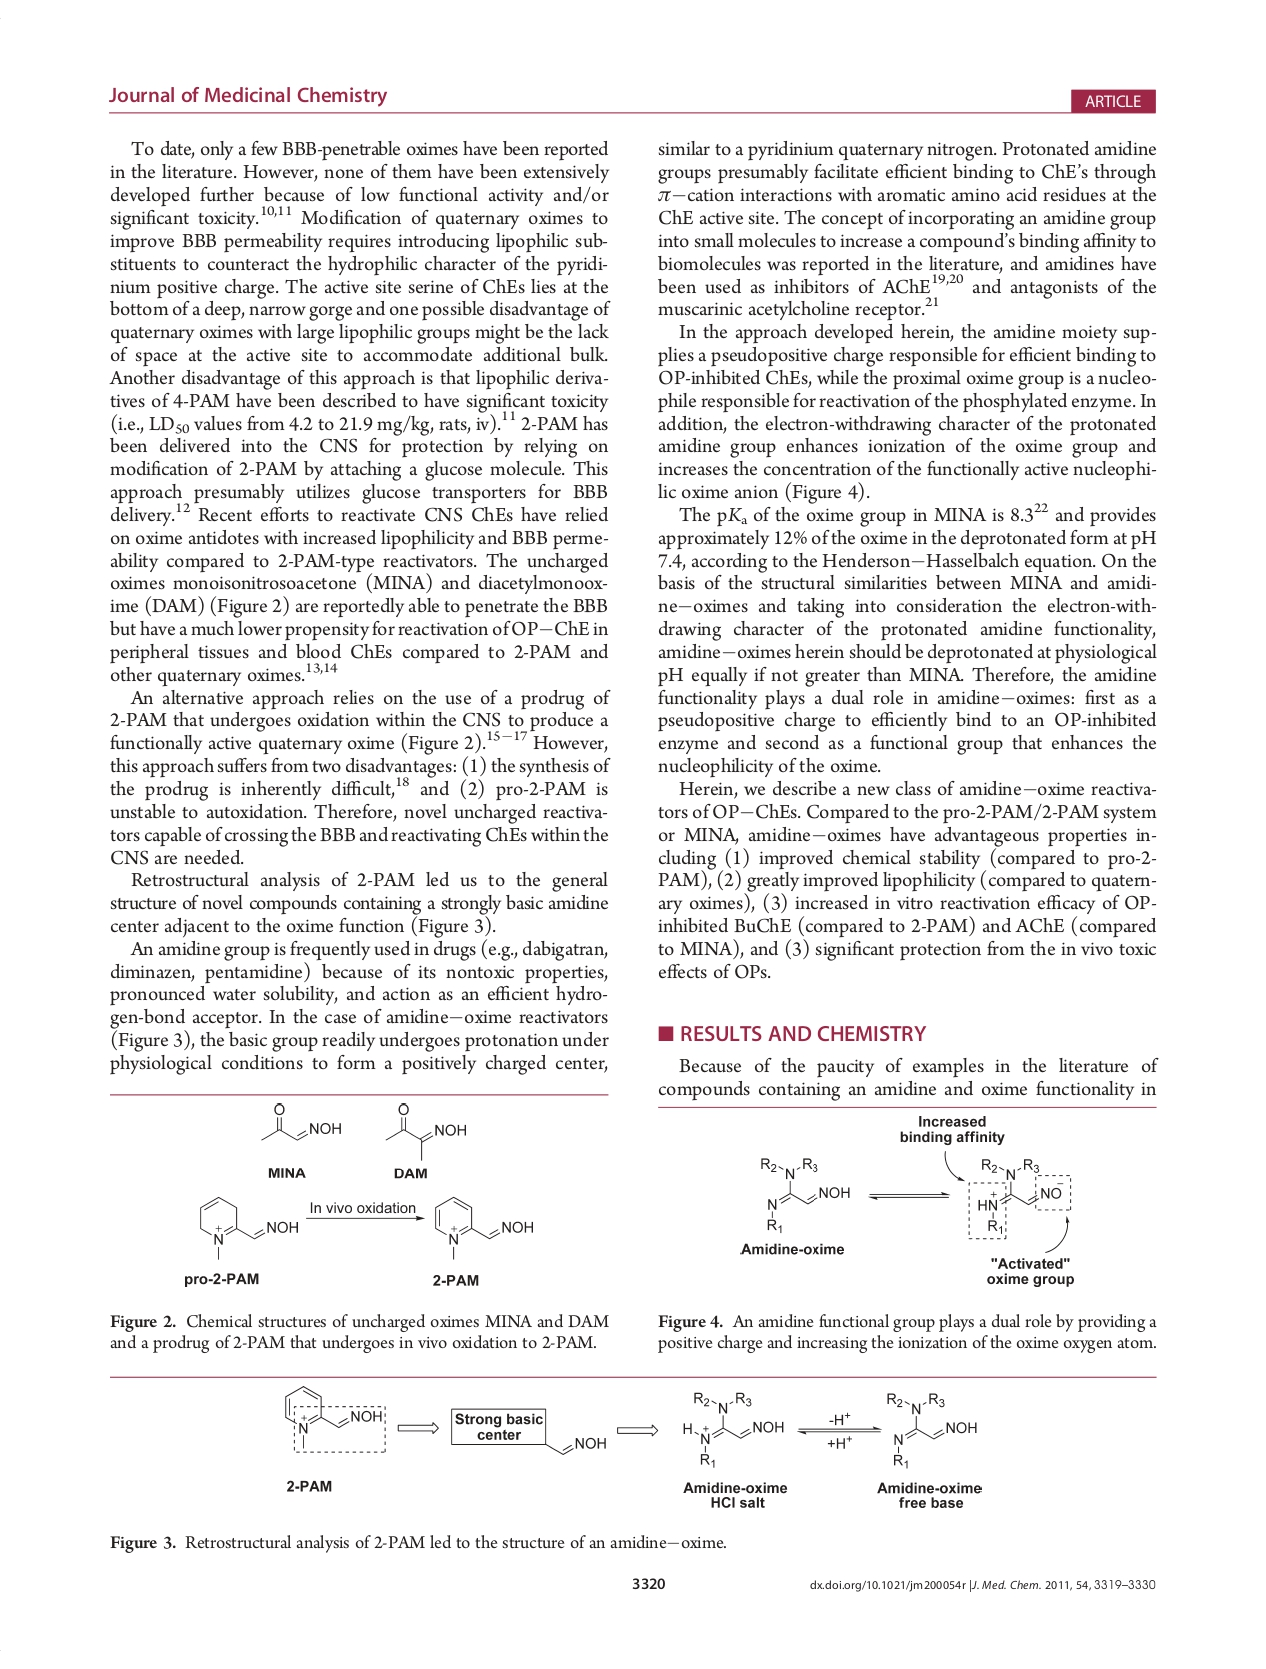exist_molecular: (680, 1388, 786, 1467), (758, 1148, 852, 1235), (884, 1384, 979, 1470), (193, 1192, 303, 1261), (972, 1156, 1067, 1235), (432, 1193, 535, 1261), (283, 1384, 383, 1450), (380, 1100, 469, 1164), (258, 1098, 344, 1145)
